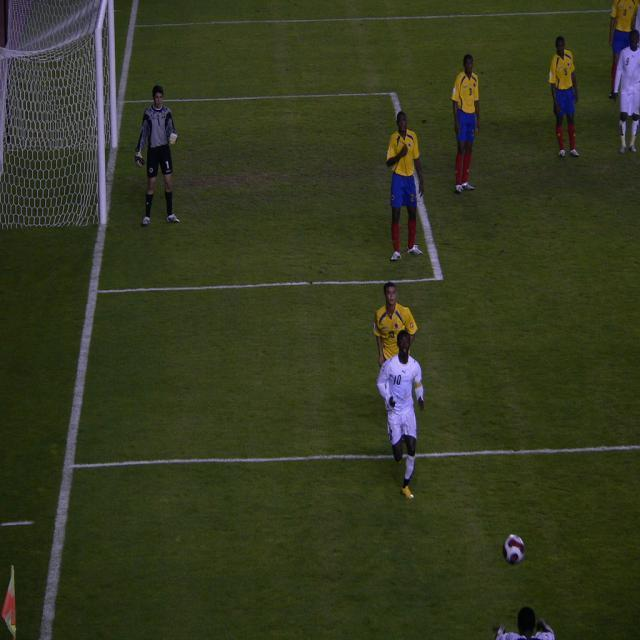football: (489, 520, 535, 563)
